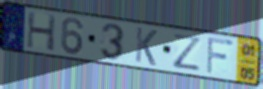3: (98, 22, 126, 62)
6: (59, 16, 86, 56)
F: (205, 35, 235, 76)
H: (25, 10, 58, 53)
K: (134, 26, 159, 68)
Z: (171, 32, 203, 73)
